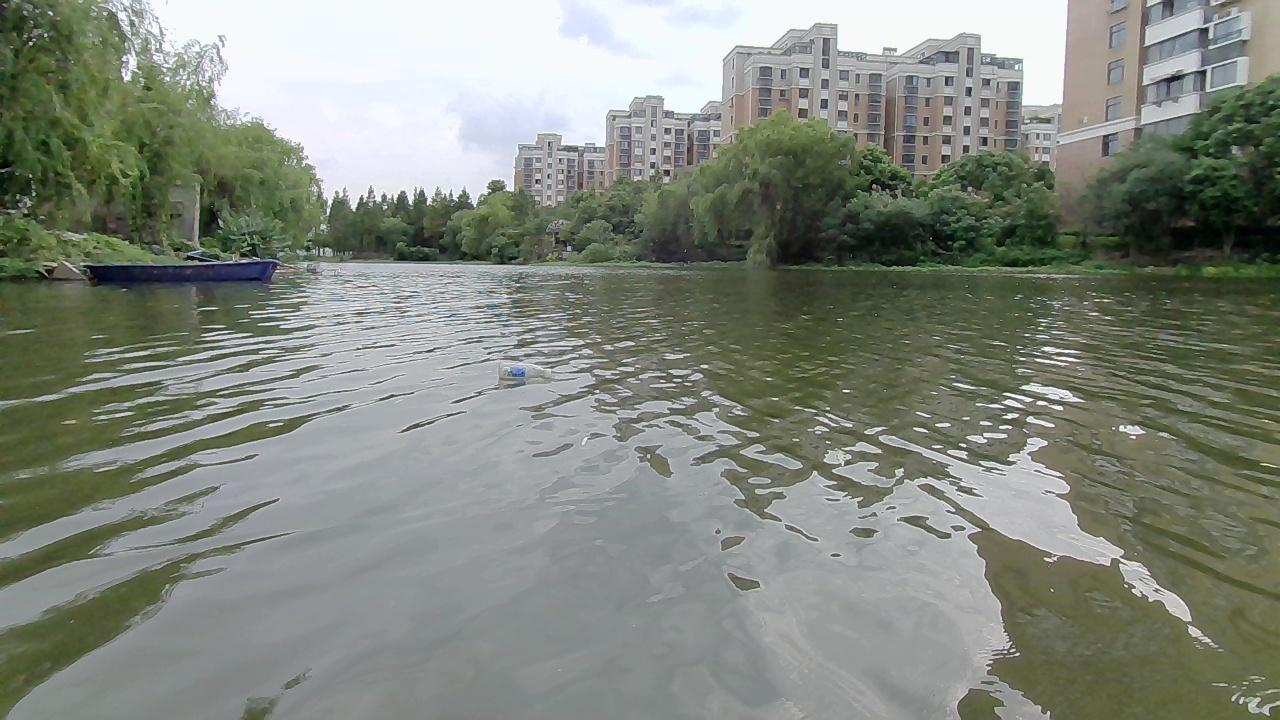bottle: (491, 360, 552, 383)
